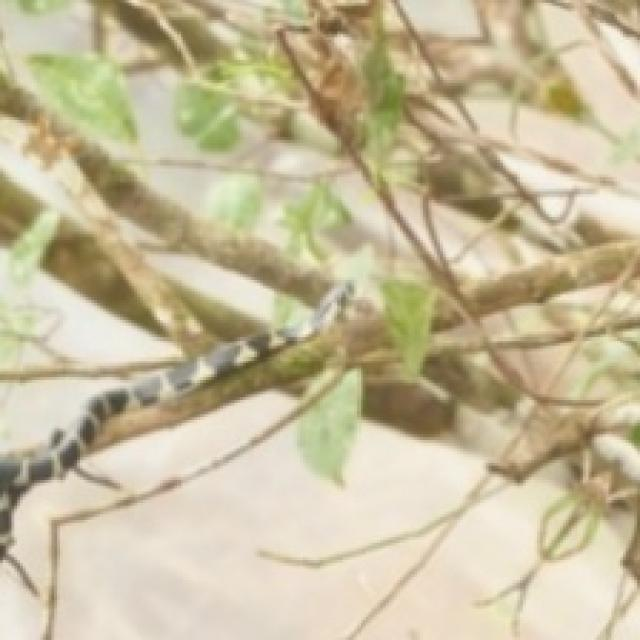king cobra: (0, 286, 349, 560), (0, 386, 334, 637)
